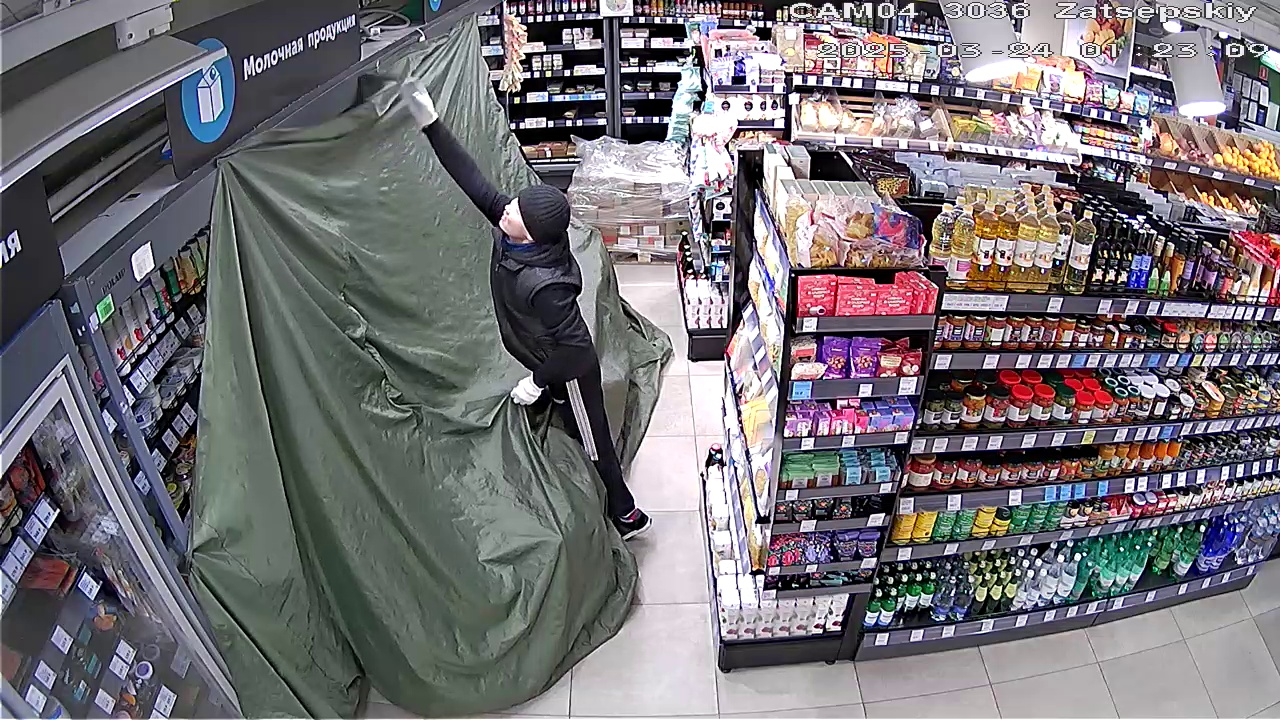Human: (377, 64, 653, 531)
dome: (194, 46, 668, 708)
pallet: (566, 130, 699, 256)
